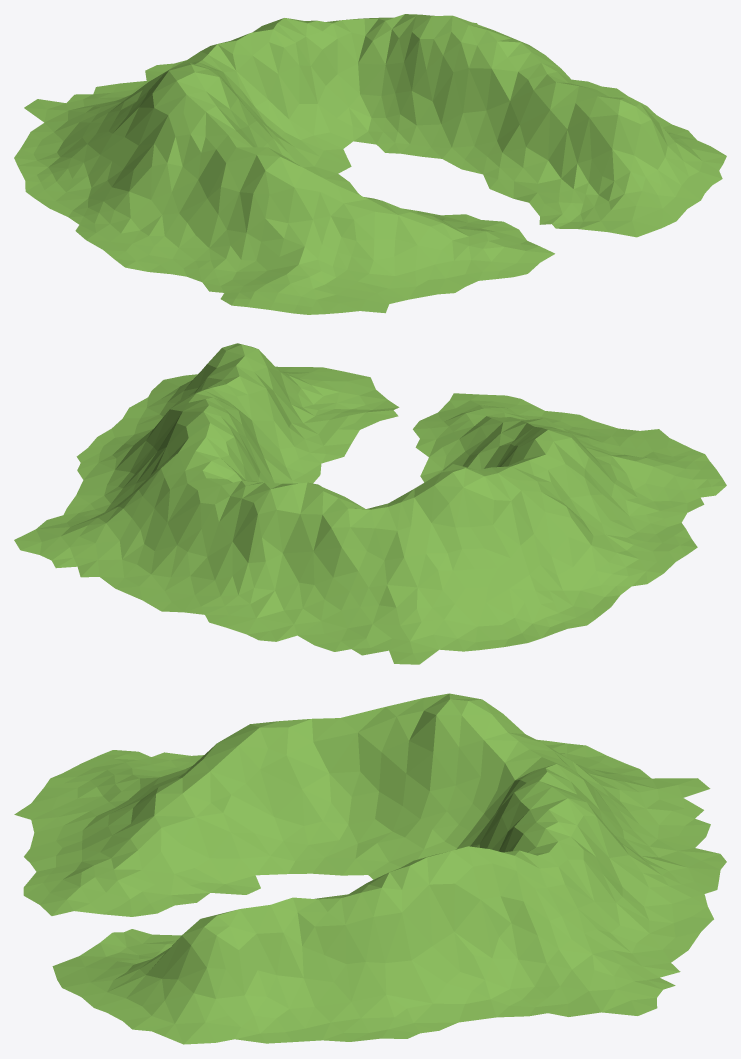
File: MT_Mountain_L_a_18.fbx
The picture shows the model from 3 angles, top to bottom: view 1: azimuth 30°, elevation 25°; view 2: azimuth 150°, elevation 25°; view 3: azimuth 270°, elevation 25°; orthographic projection. The views are drawn at different scales.
Parts seen in each view (by area): view 1: MT_Mountain_L_a_18; view 2: MT_Mountain_L_a_18; view 3: MT_Mountain_L_a_18.
Boxes of the visible parts, x1=… form: MT_Mountain_L_a_18: x1=14, y1=14, x2=726, y2=314; MT_Mountain_L_a_18: x1=14, y1=343, x2=726, y2=664; MT_Mountain_L_a_18: x1=14, y1=693, x2=726, y2=1044.
Size of the model in its own units: 9252 by 1664 by 8812.
